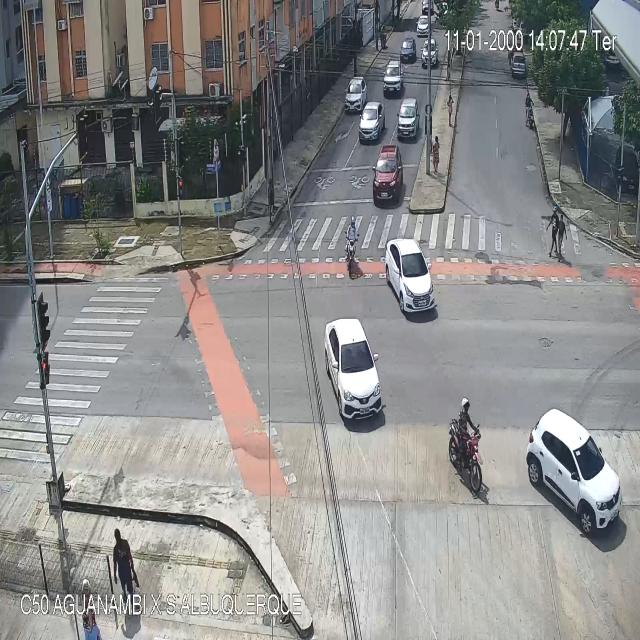Car: (527, 408, 623, 538), (324, 317, 382, 420), (385, 235, 436, 319), (373, 146, 403, 208), (360, 101, 385, 142), (398, 98, 421, 134), (346, 78, 367, 110), (384, 58, 402, 94), (422, 38, 437, 68), (401, 40, 417, 65), (510, 53, 525, 74), (416, 12, 428, 32)
Motorcycle: (448, 399, 484, 492), (345, 216, 357, 279)
